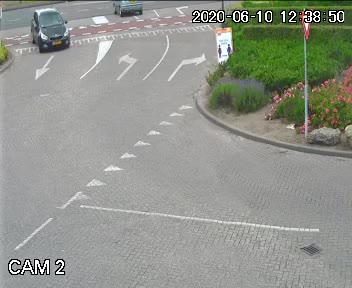car: (29, 6, 75, 51)
